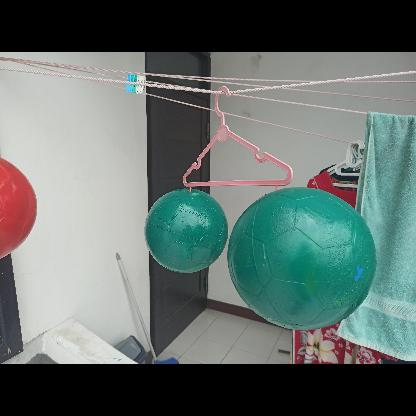green_ball: (227, 183, 375, 331), (144, 189, 228, 273)
